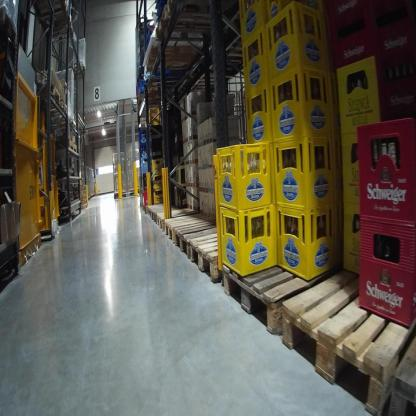pallet: (281, 254, 416, 414), (221, 244, 352, 347), (190, 232, 256, 299), (171, 212, 232, 265), (388, 324, 416, 415), (143, 43, 218, 76), (153, 7, 224, 41), (156, 207, 199, 236), (163, 215, 212, 240), (32, 1, 77, 27), (136, 86, 174, 110), (39, 22, 76, 44), (34, 80, 62, 107), (2, 6, 19, 49), (42, 99, 71, 116), (53, 141, 79, 156), (52, 119, 78, 133), (70, 62, 87, 82), (151, 205, 164, 224), (145, 201, 151, 215), (80, 198, 88, 205), (79, 186, 88, 192), (80, 203, 87, 210), (79, 192, 88, 197), (80, 196, 88, 201)
